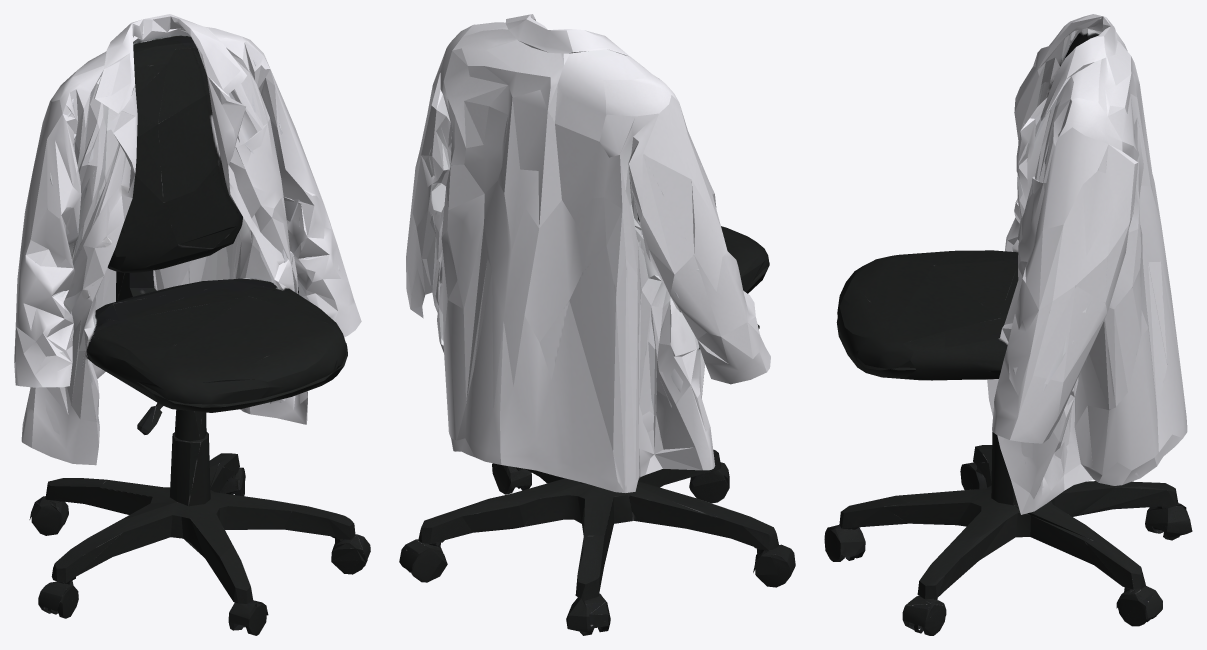
File: LabChair_low.fbx
3 renders of one model, left to right at view 1: azimuth 30°, elevation 25°; view 2: azimuth 150°, elevation 25°; view 3: azimuth 270°, elevation 25°, orthographic. The views are drawn at different scales.
Parts seen in each view (by area): view 1: LabChair_low; view 2: LabChair_low; view 3: LabChair_low.
Part boxes in pixels (x1=…): LabChair_low: x1=14, y1=14, x2=370, y2=635; LabChair_low: x1=399, y1=14, x2=795, y2=635; LabChair_low: x1=824, y1=14, x2=1192, y2=635.
Bounding box in the file's own units: 128 × 190 × 116.
